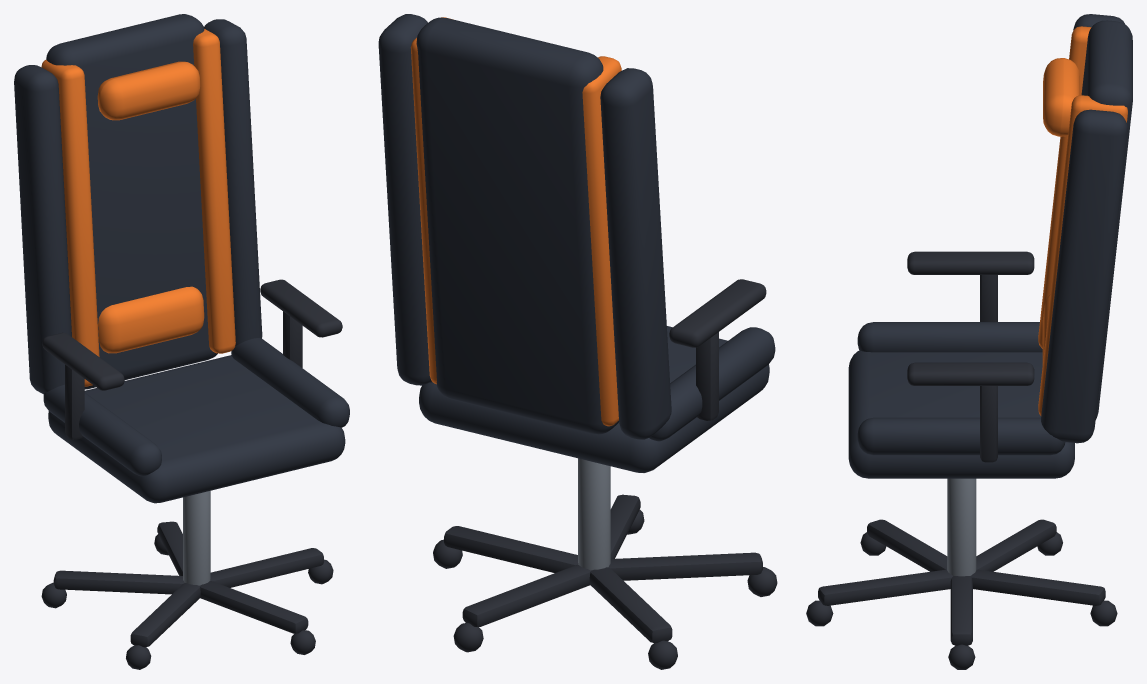
The model's file is cadeira_gamer.glb.
3 renders of one model, left to right at view 1: azimuth 30°, elevation 25°; view 2: azimuth 150°, elevation 25°; view 3: azimuth 270°, elevation 25°, orthographic. The views are drawn at different scales.
Visible parts, largest first — view 1: Cube.016, Cube.005, Cube.007, Cube.012, Cube.013, Cube.008, Cube.018, Cube.017, Cube.011, Cube.006, Cylinder, Cube.002 (+10 smaller); view 2: Cube.016, Cube.007, Cube.012, Cube.005, Cube.008, Cube.006, Cylinder, Cube.003, Cube.001, Cube.009, Cube, Cube.013 (+7 smaller); view 3: Cube.012, Cube.005, Cube.011, Cube.006, Cube.016, Cube.009, Cube.014, Cylinder, Cube.004, Cube.001, Cube.017, Cube.008 (+9 smaller).
Boxes of the visible parts, x1,y1,x2,y2 form: Cube.016: (46,14,217,389); Cube.005: (48,355,345,503); Cube.007: (14,65,71,394); Cube.012: (204,19,262,345); Cube.013: (193,29,235,353); Cube.008: (41,60,99,386); Cube.018: (98,286,204,353); Cube.017: (97,61,200,120); Cube.011: (231,338,349,427); Cube.006: (43,384,161,476); Cylinder: (183,490,210,585); Cube.002: (53,570,184,594); Cube.016: (416,17,618,434); Cube.007: (600,68,671,439); Cube.012: (378,14,431,385); Cube.005: (419,326,769,472); Cube.008: (582,56,621,426); Cube.006: (649,327,775,441); Cylinder: (578,458,610,570); Cube.003: (608,552,762,580); Cube.001: (462,564,590,627); Cube.009: (669,279,766,347); Cube: (444,526,578,572); Cube.013: (410,17,453,384); Cube.012: (1041,109,1127,443); Cube.005: (848,350,1074,478); Cube.011: (857,417,1065,455); Cube.006: (857,322,1042,352); Cube.016: (1081,20,1132,419); Cube.009: (907,251,1034,274); Cube.014: (907,362,1034,385); Cylinder: (947,478,976,576); Cube.004: (818,569,952,605); Cube.001: (970,569,1105,605); Cube.017: (1043,58,1079,136); Cube.008: (1038,26,1091,348).
Size of the model in its own units: 0.6835 by 1.35 by 0.7215.
